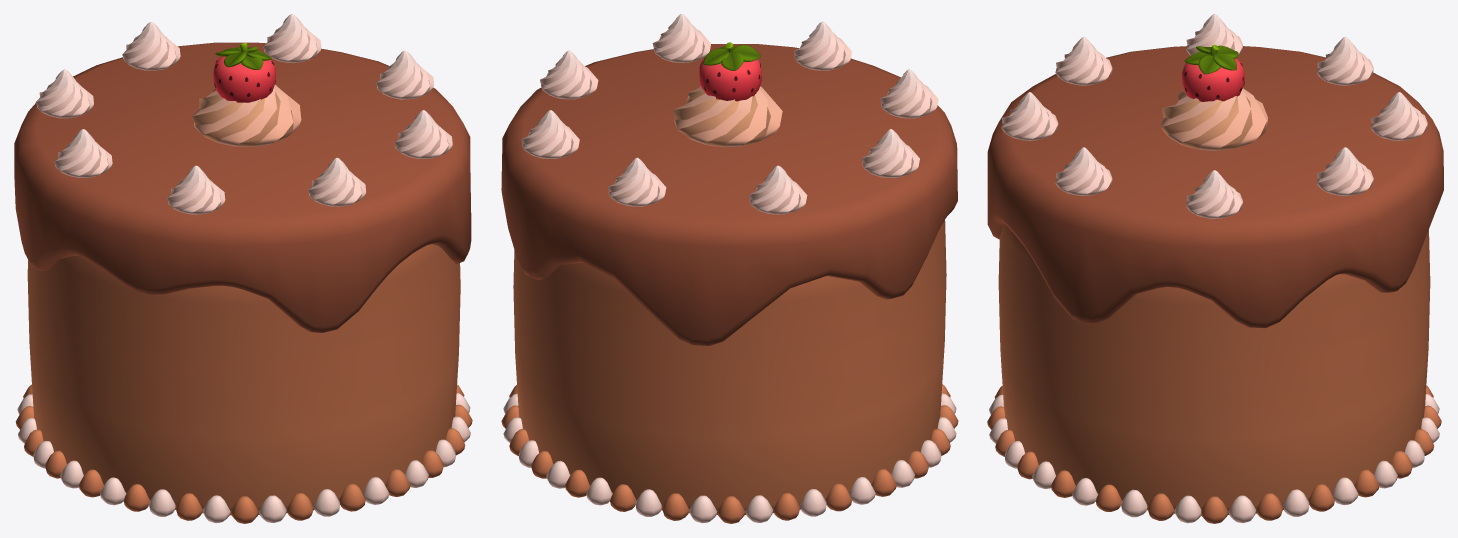
File: Cake_Chocolate_V2_00.fbx
3 renders of one model, left to right at view 1: azimuth 30°, elevation 25°; view 2: azimuth 150°, elevation 25°; view 3: azimuth 270°, elevation 25°, orthographic.
Visible parts, largest first — view 1: Cake_Chocolate_V2_00; view 2: Cake_Chocolate_V2_00; view 3: Cake_Chocolate_V2_00.
Boxes of the visible parts, x1=… form: Cake_Chocolate_V2_00: x1=14, y1=14, x2=472, y2=523; Cake_Chocolate_V2_00: x1=501, y1=14, x2=958, y2=523; Cake_Chocolate_V2_00: x1=987, y1=14, x2=1443, y2=523.
Bounding box in the file's own units: 65.76 × 61.66 × 65.84.
